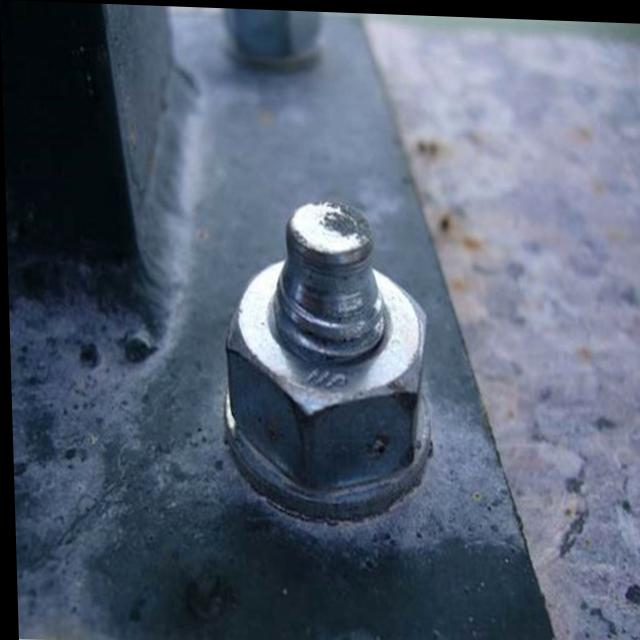Regular bolt: (225, 244, 431, 487)
